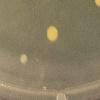yellow: (46, 25, 60, 43), (20, 53, 27, 64), (93, 0, 100, 8)
